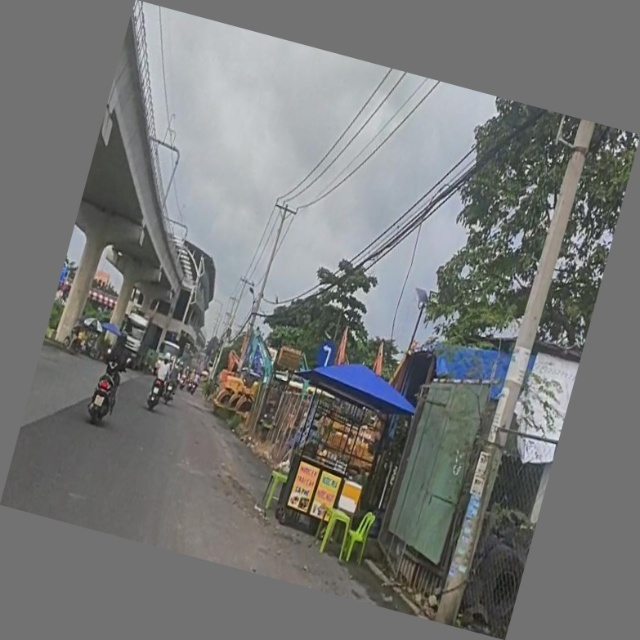R.301e: (314, 338, 338, 371)
